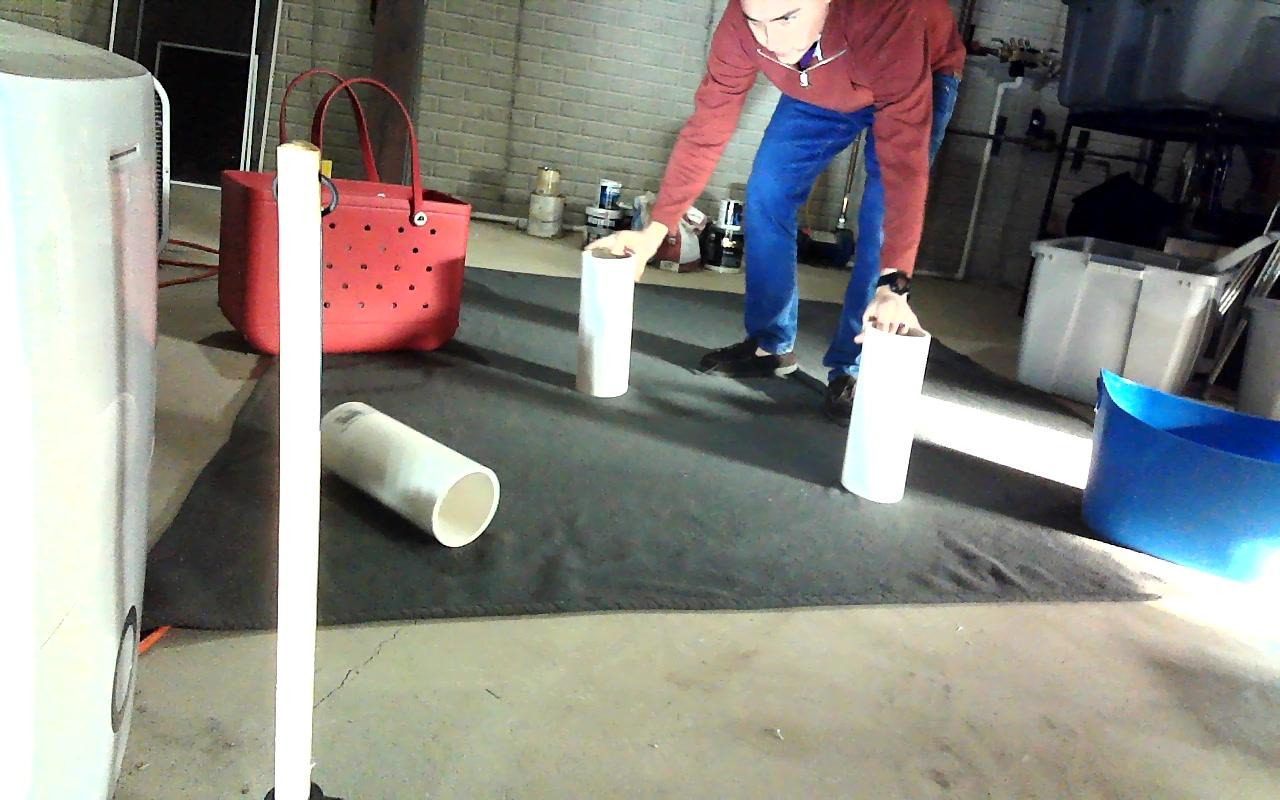coral: (321, 399, 498, 546), (842, 322, 930, 501), (583, 248, 633, 397)
